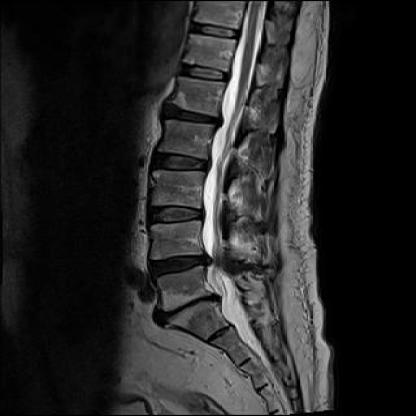Degenerative Disc Diseaserotation: (144, 293, 232, 320), (145, 249, 219, 280)
Disc Bulgerotation: (144, 292, 232, 321), (145, 250, 218, 280)
Disc Relaxationrotation: (157, 98, 228, 131), (147, 144, 214, 175), (145, 199, 209, 230)
